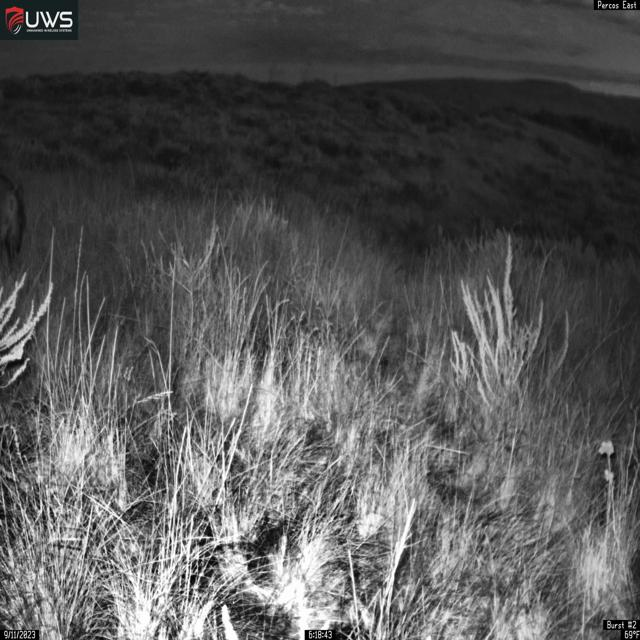pig: (0, 167, 27, 276)
